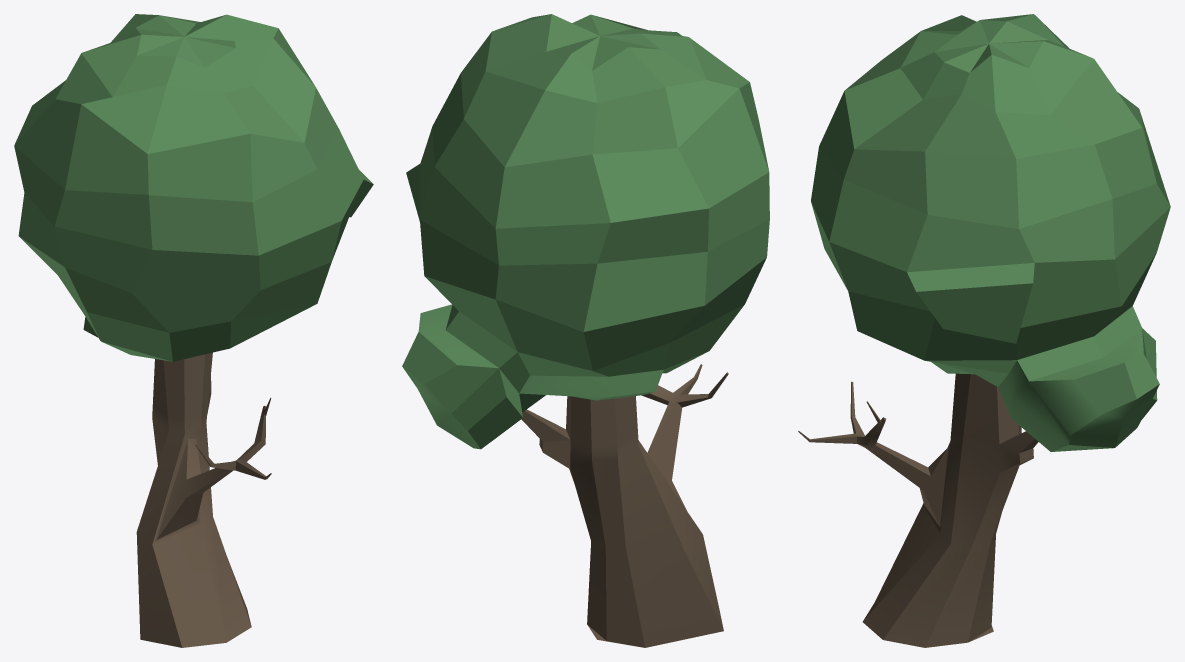
File: tree_oak_simple_02.fbx
3 renders of one model, left to right at view 1: azimuth 30°, elevation 25°; view 2: azimuth 150°, elevation 25°; view 3: azimuth 270°, elevation 25°, orthographic. The views are drawn at different scales.
Visible parts, largest first — view 1: tree_oak_simple_02; view 2: tree_oak_simple_02; view 3: tree_oak_simple_02.
Boxes of the visible parts, x1=… form: tree_oak_simple_02: x1=14, y1=14, x2=373, y2=647; tree_oak_simple_02: x1=402, y1=14, x2=769, y2=647; tree_oak_simple_02: x1=798, y1=14, x2=1170, y2=647.
Size of the model in its own units: 239 by 428 by 242.
